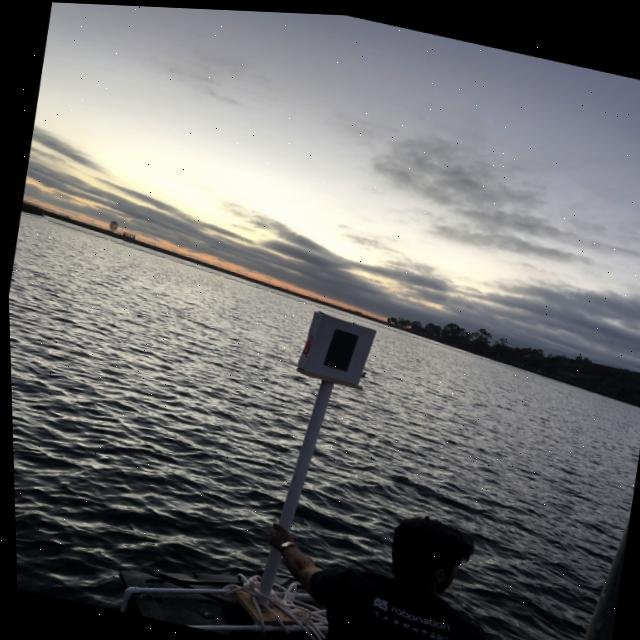led: (309, 308, 363, 378)
